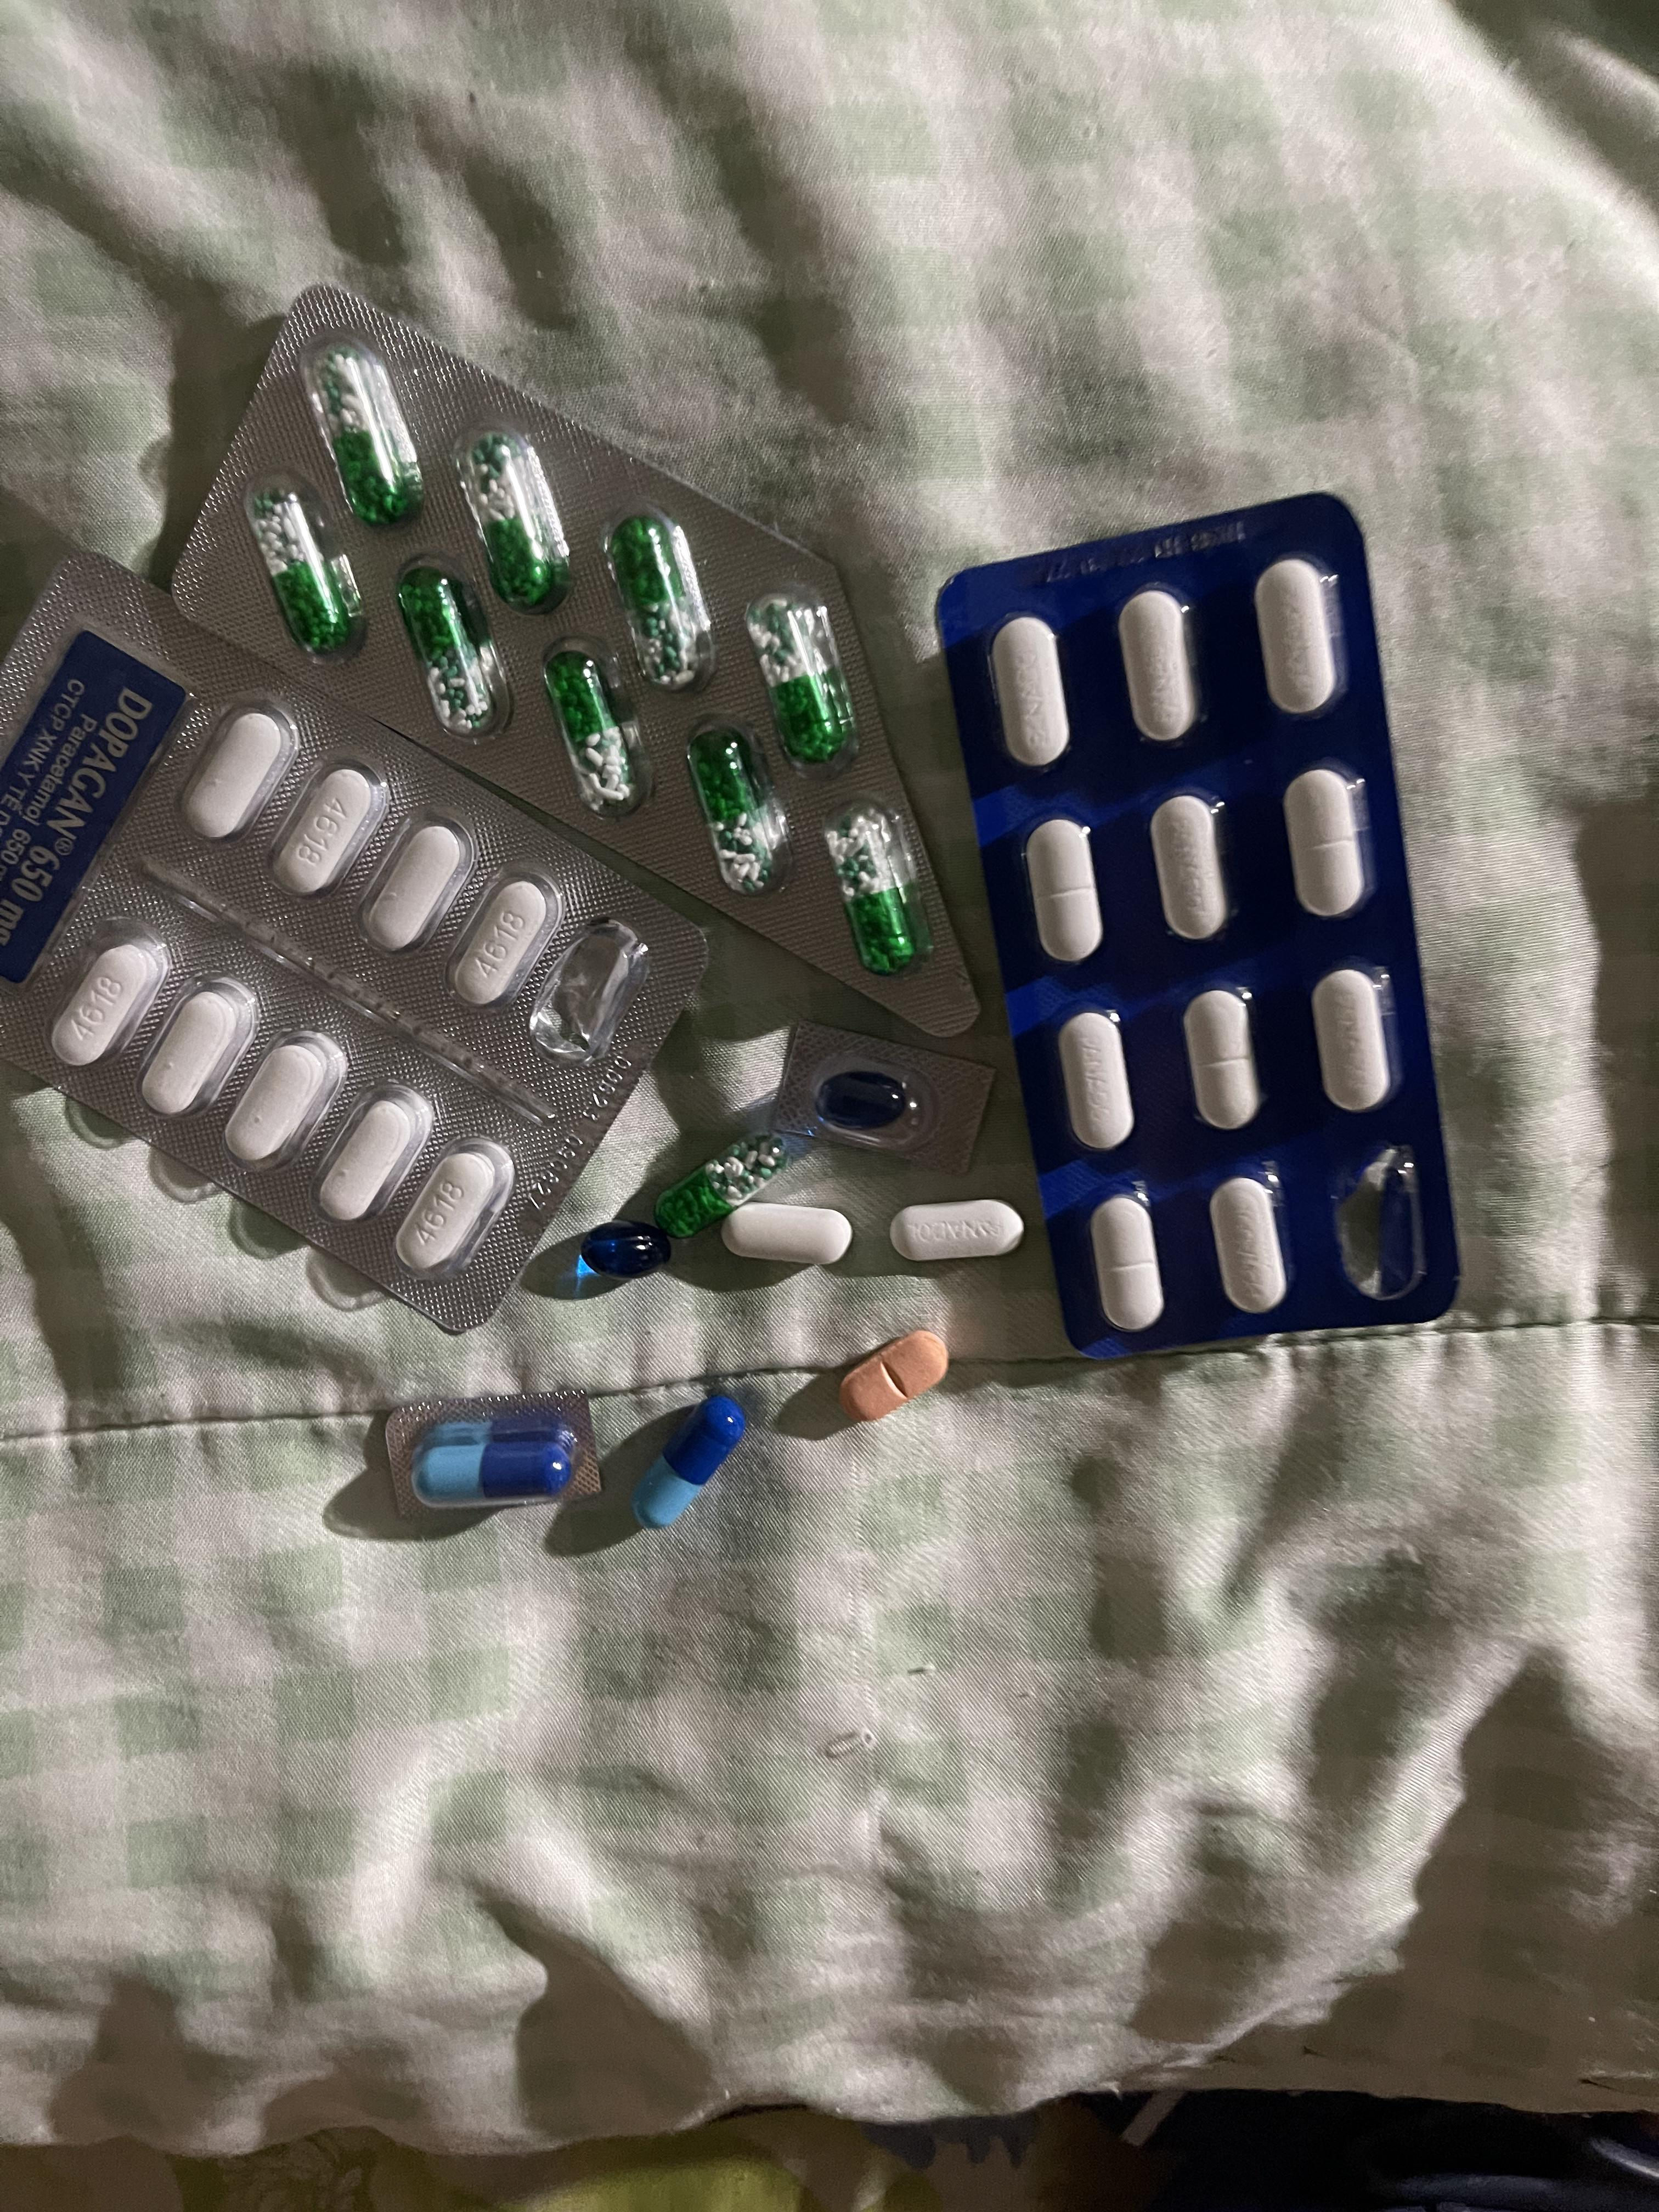Lincomyxin_500mg: (816, 1069, 911, 1132), (580, 1221, 673, 1280)
Loratadine_10mg: (845, 1327, 946, 1420)
Paracetamol_350mg: (1255, 559, 1342, 718), (1283, 766, 1370, 918), (1312, 968, 1398, 1113), (1119, 592, 1199, 744), (988, 617, 1068, 766), (1152, 796, 1234, 942), (1025, 819, 1101, 963), (1185, 989, 1263, 1130), (1211, 1176, 1290, 1313), (1058, 1012, 1133, 1151), (1091, 1197, 1162, 1331), (890, 1200, 1026, 1263)
Paracetamol_500mg: (139, 970, 260, 1120), (312, 1078, 432, 1226), (225, 1028, 345, 1176), (267, 754, 387, 899), (51, 925, 171, 1068), (394, 1134, 514, 1277), (357, 810, 474, 953), (448, 866, 561, 1007), (185, 709, 289, 838), (720, 1200, 849, 1263)
Paracetamol_650mg: (317, 348, 420, 526), (687, 725, 789, 899), (464, 434, 565, 608), (612, 516, 709, 695), (249, 489, 354, 655), (824, 805, 924, 974), (397, 570, 495, 735), (751, 597, 847, 759), (544, 650, 640, 808), (653, 1132, 789, 1238)
pill: (634, 1395, 744, 1527), (420, 1423, 577, 1503)
